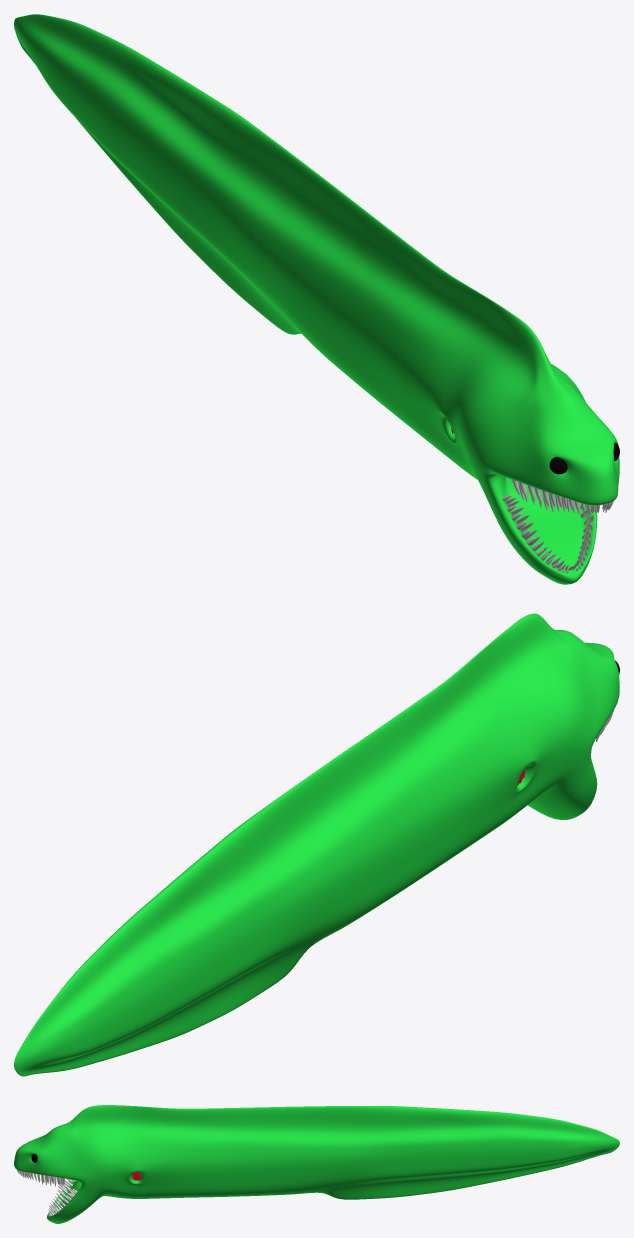
The model's file is eel.glb.
The picture shows the model from 3 angles, top to bottom: view 1: azimuth 30°, elevation 25°; view 2: azimuth 150°, elevation 25°; view 3: azimuth 270°, elevation 25°; orthographic projection. The views are drawn at different scales.
Parts seen in each view (by area): view 1: eel, eel_teeth_bottom, eel_teeth_top; view 2: eel; view 3: eel, eel_teeth_bottom, eel_teeth_top.
Boxes of the visible parts, x1,y1,x2,y2 form: eel: [14, 14, 619, 584]; eel_teeth_bottom: [502, 495, 593, 573]; eel_teeth_top: [512, 479, 613, 516]; eel: [14, 613, 619, 1076]; eel: [14, 1105, 619, 1223]; eel_teeth_bottom: [48, 1179, 77, 1215]; eel_teeth_top: [17, 1170, 64, 1186].
Size of the model in its own units: 1.38 by 2.75 by 12.77.
